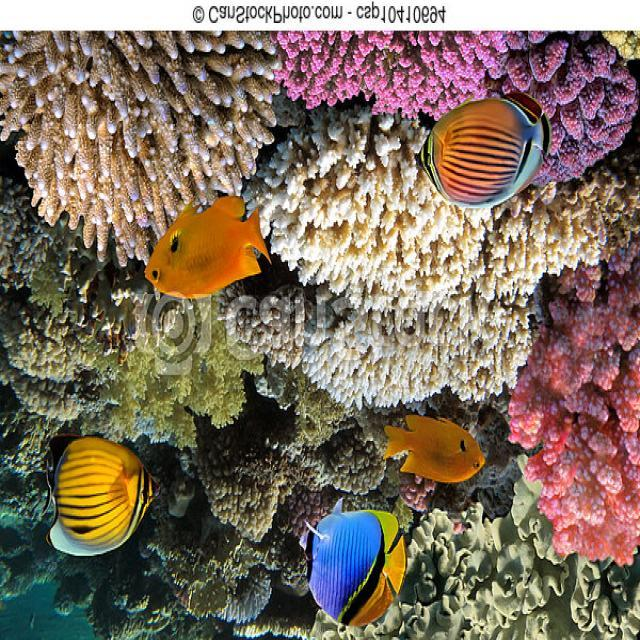ButterflyFish: (412, 82, 572, 224), (139, 187, 291, 308), (284, 505, 424, 619), (46, 437, 162, 568), (371, 404, 503, 494)
